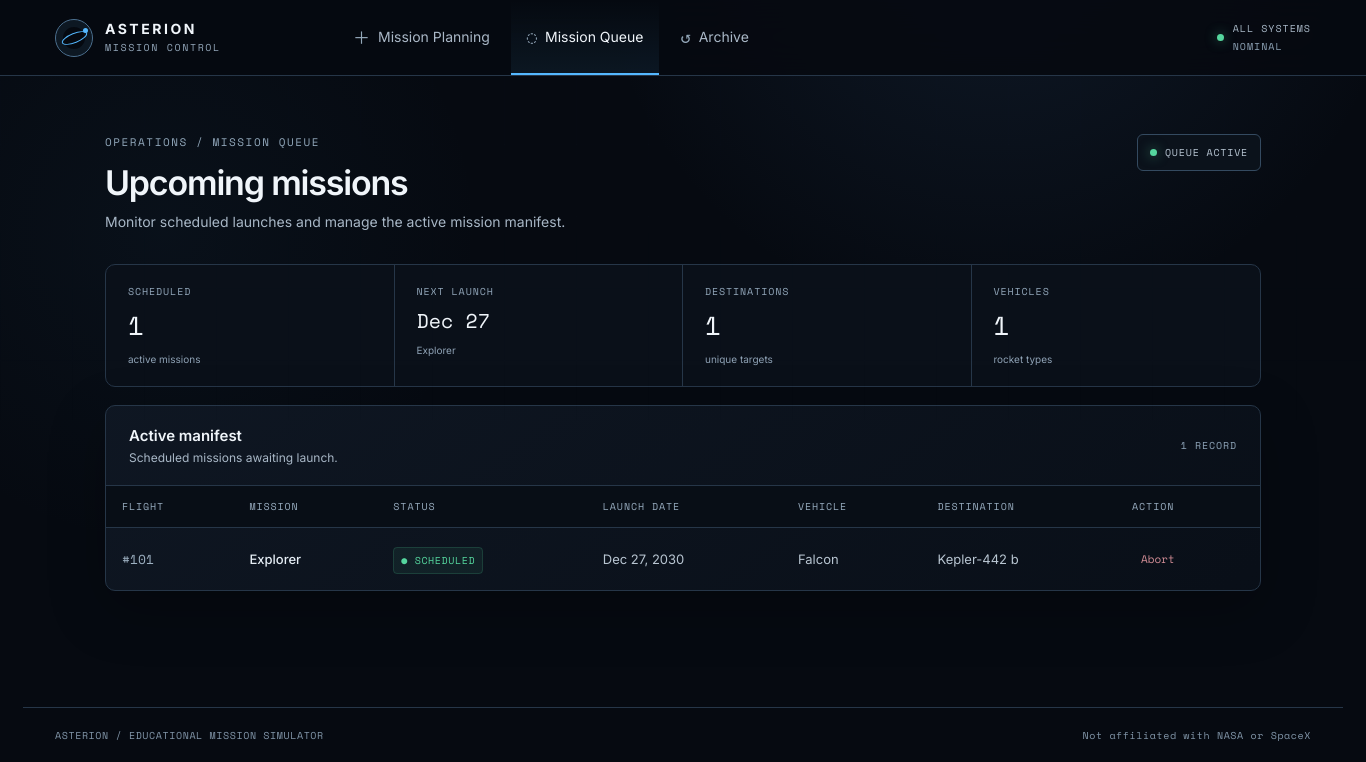
Scenario: plays the Arwes abort sound after a successful abort
Click the button "Abort": x=1158, y=559 [1132, 544, 1184, 574]
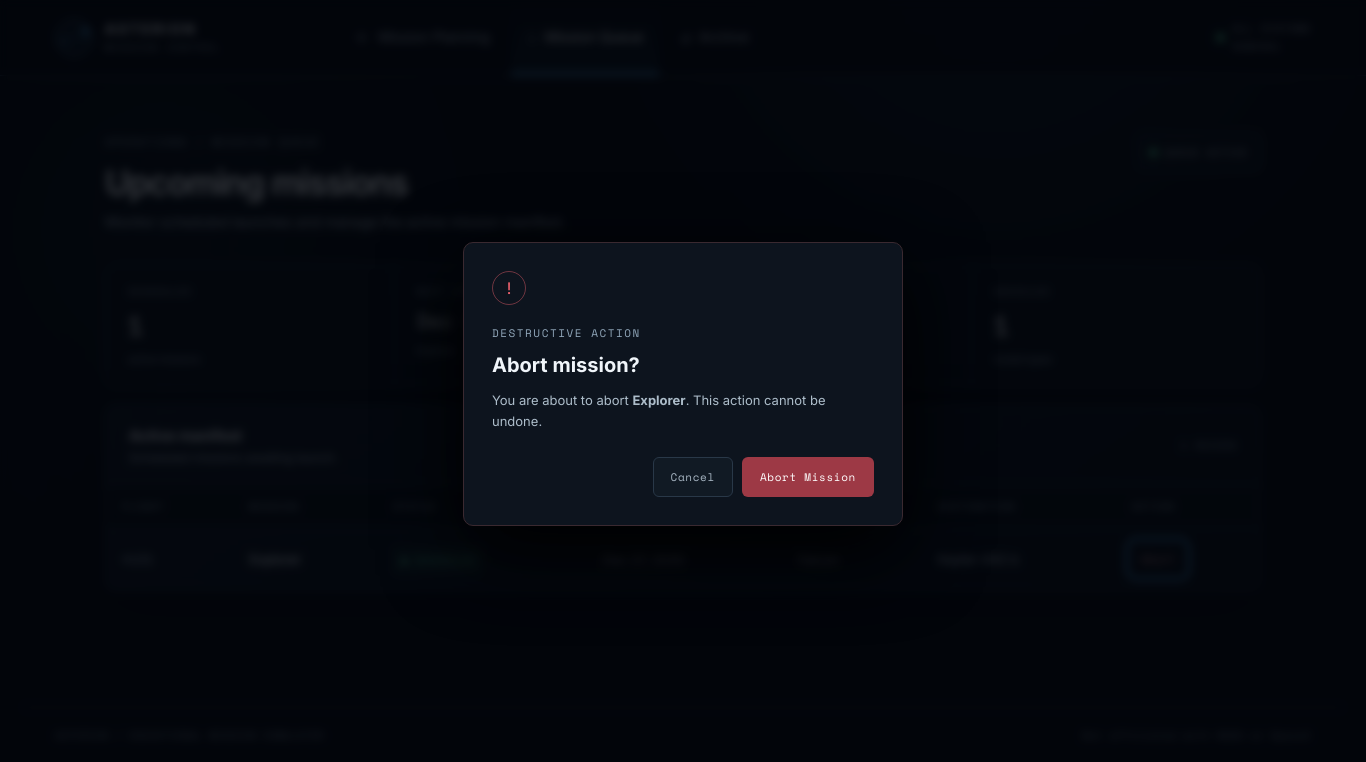
Click the button "Abort Mission": x=808, y=477 [742, 457, 874, 497]
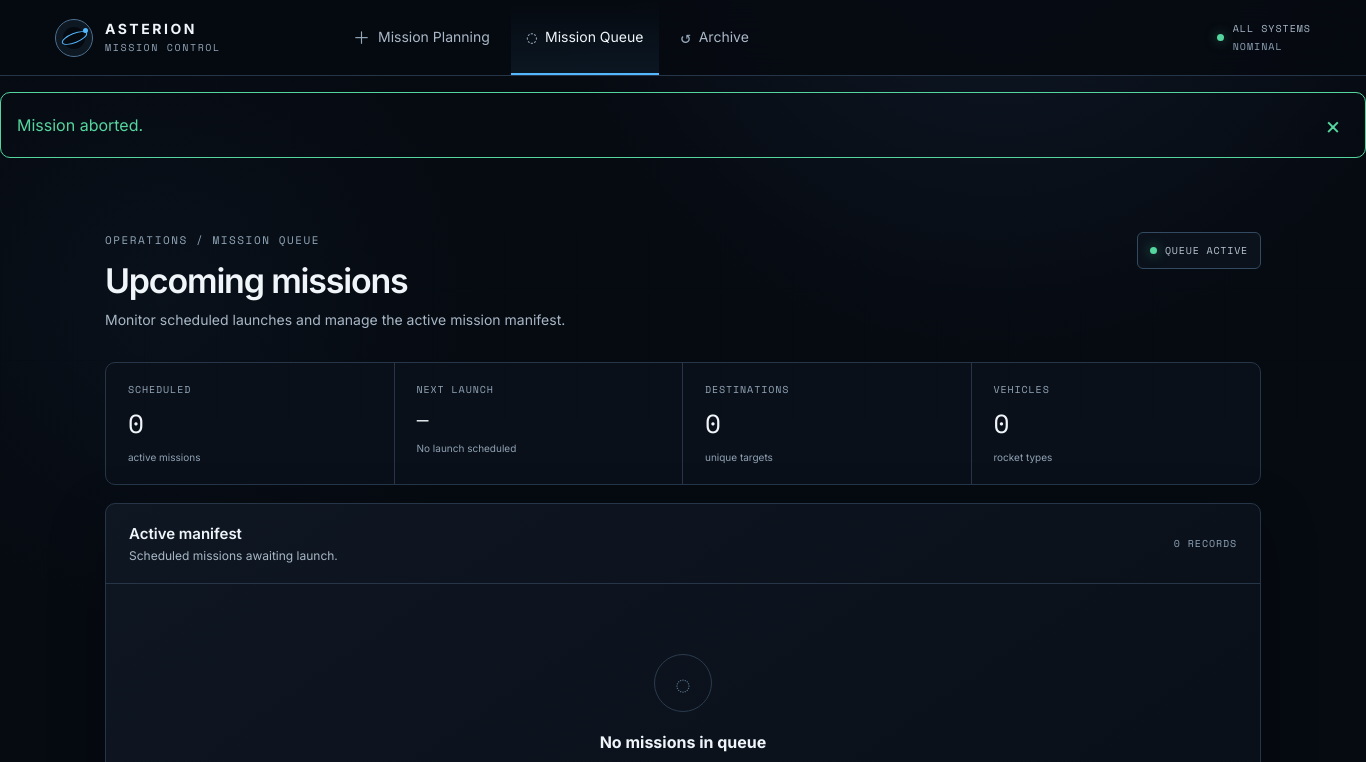
Result: the heading "No missions in queue" is shown at [600, 732, 766, 752]
